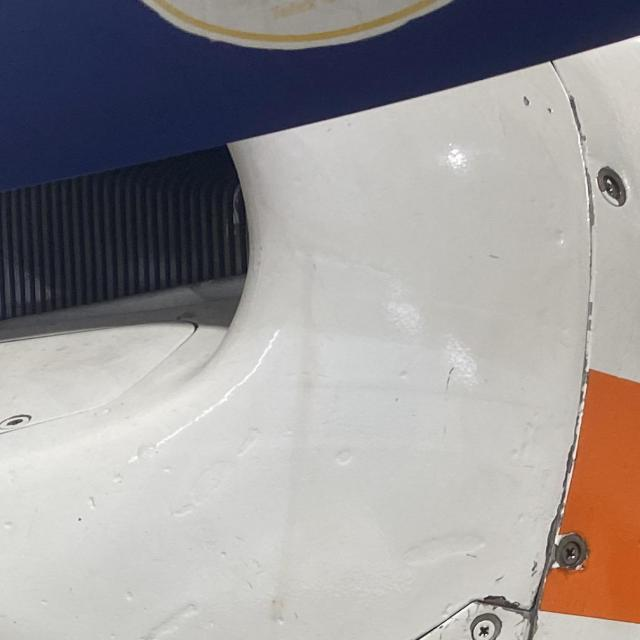Dent: (179, 451, 239, 508), (400, 530, 485, 565), (137, 601, 199, 640), (167, 495, 211, 516), (233, 426, 260, 455), (203, 542, 237, 559), (135, 440, 165, 458), (333, 445, 354, 465), (80, 490, 98, 513), (97, 623, 121, 640), (117, 584, 138, 602), (0, 463, 17, 484), (269, 599, 284, 622), (107, 466, 124, 484), (154, 460, 175, 473), (201, 613, 218, 629), (0, 515, 15, 533), (33, 593, 53, 606)
Paint-off: (518, 79, 538, 114), (540, 92, 561, 118)
